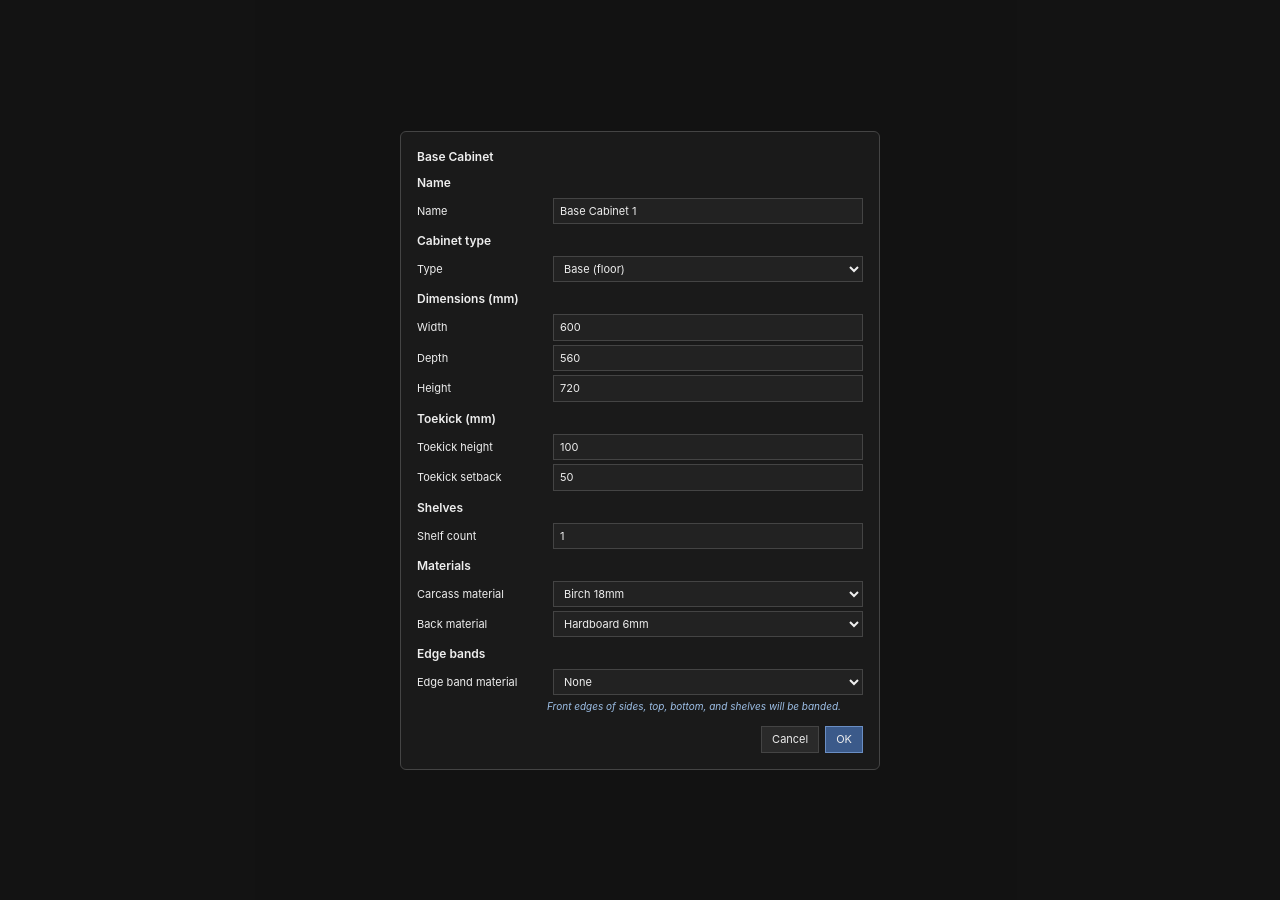
Test: CabinetDialog — validation › disables OK and shows an error when width ≤ 2·Tc
Replace the text in the number field labelled "Width" with "36" at [708, 327], box x1=553 y1=314 x2=863 y2=340
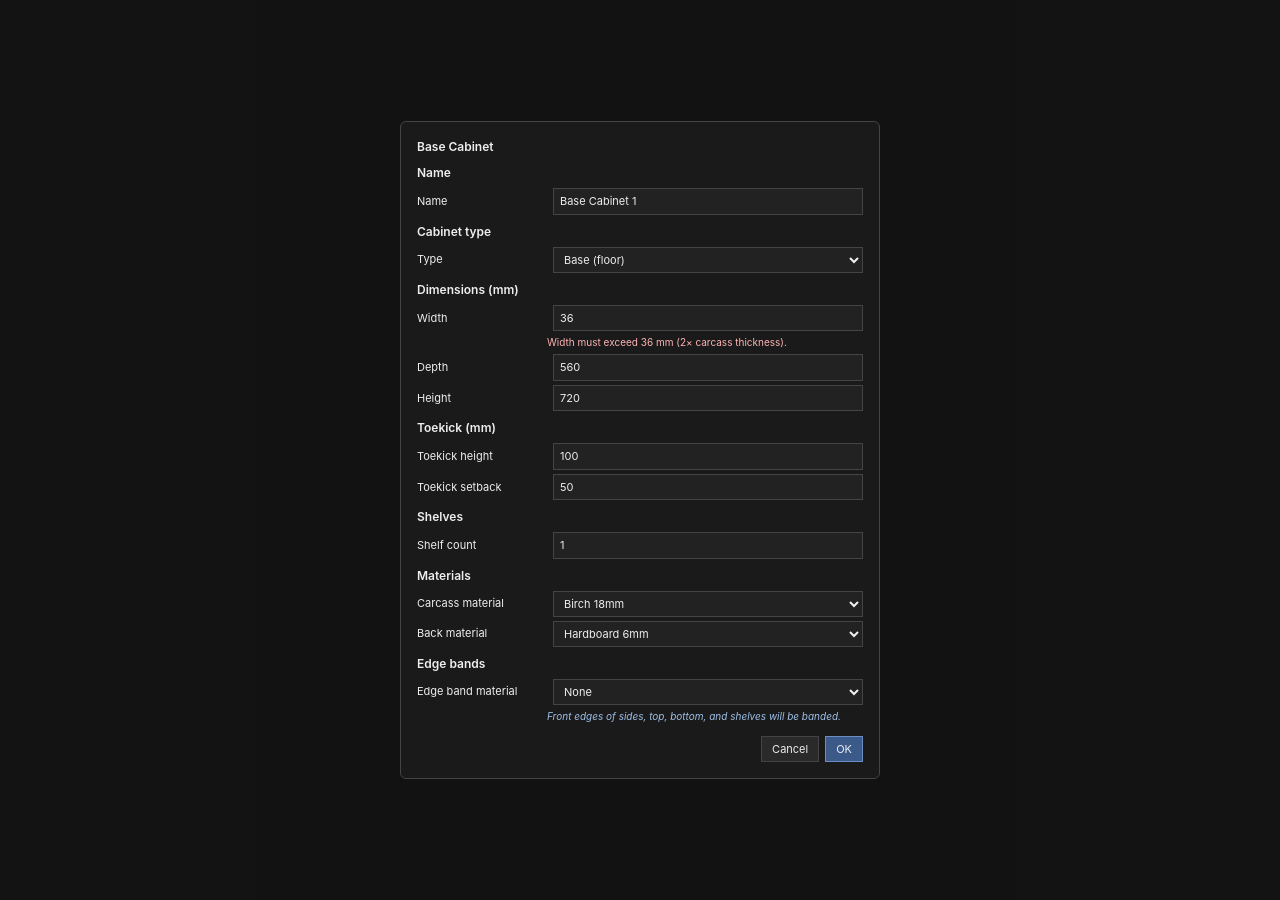
Expected: the text "Width must exceed 36 mm (2× carcass thickness)." is shown, x1=547 y1=336 x2=787 y2=348
